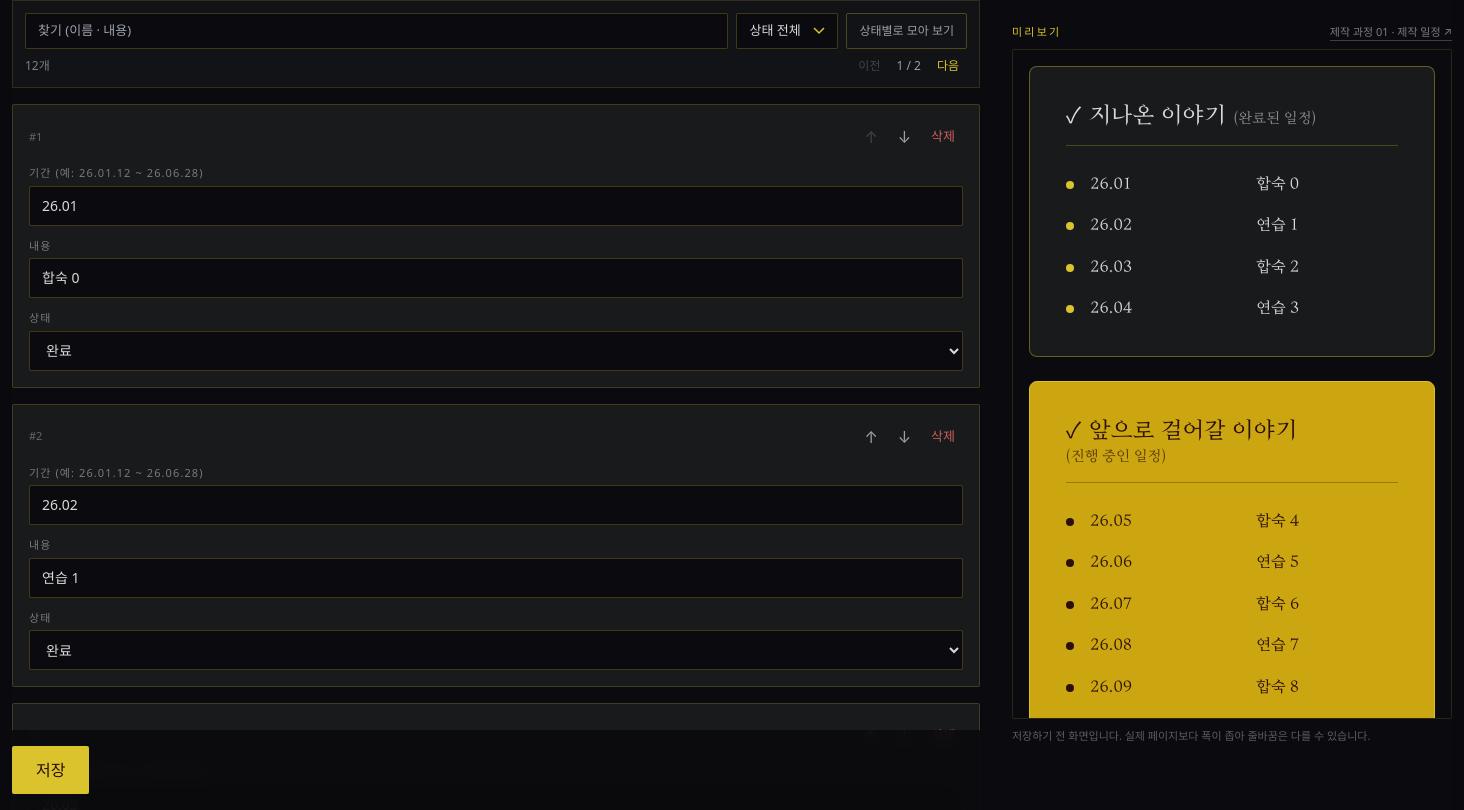
Test: ListEditor — 찾기·거르기·페이지 › 모아 보기 중에는 ↑↓ 를 잠근다 — 보이는 자리와 저장되는 자리가 다르다
This screenshot has width=1464, height=810.
Click the button "상태별로 모아 보기": (907,31) [846,13,967,49]
(page scrolled)
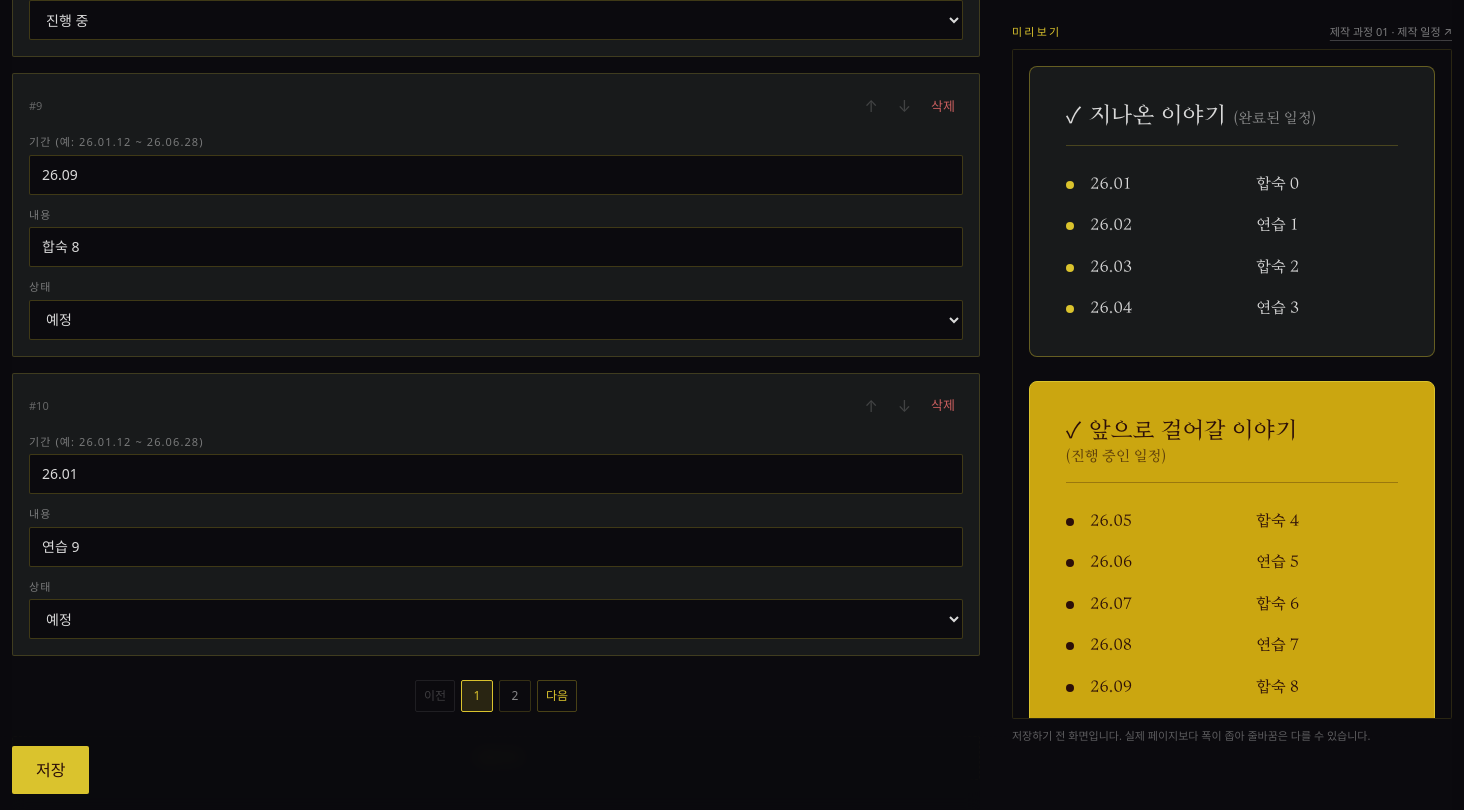
expect the button named "위로 이동" is disabled: met, box [856,90,886,122]
expect the button named "아래로 이동" is disabled: met, box [890,90,919,122]
